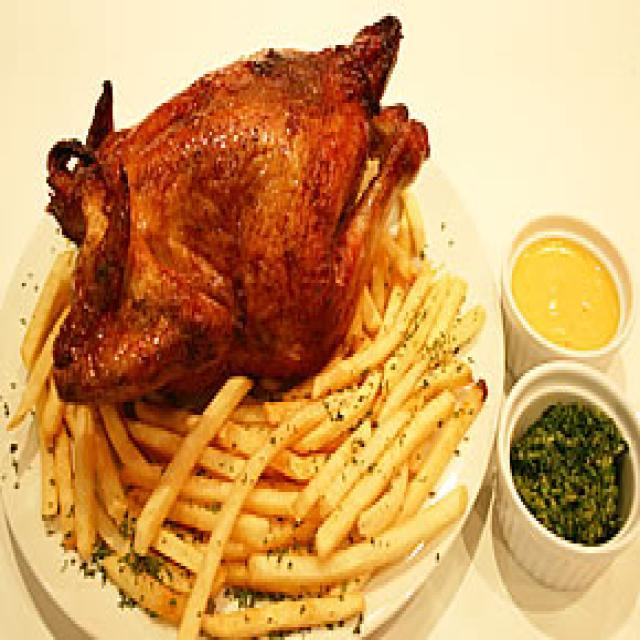Chicken: (36, 0, 427, 407)
French Fries: (46, 391, 472, 640)
